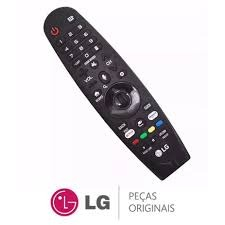remote control: (41, 8, 194, 181)
